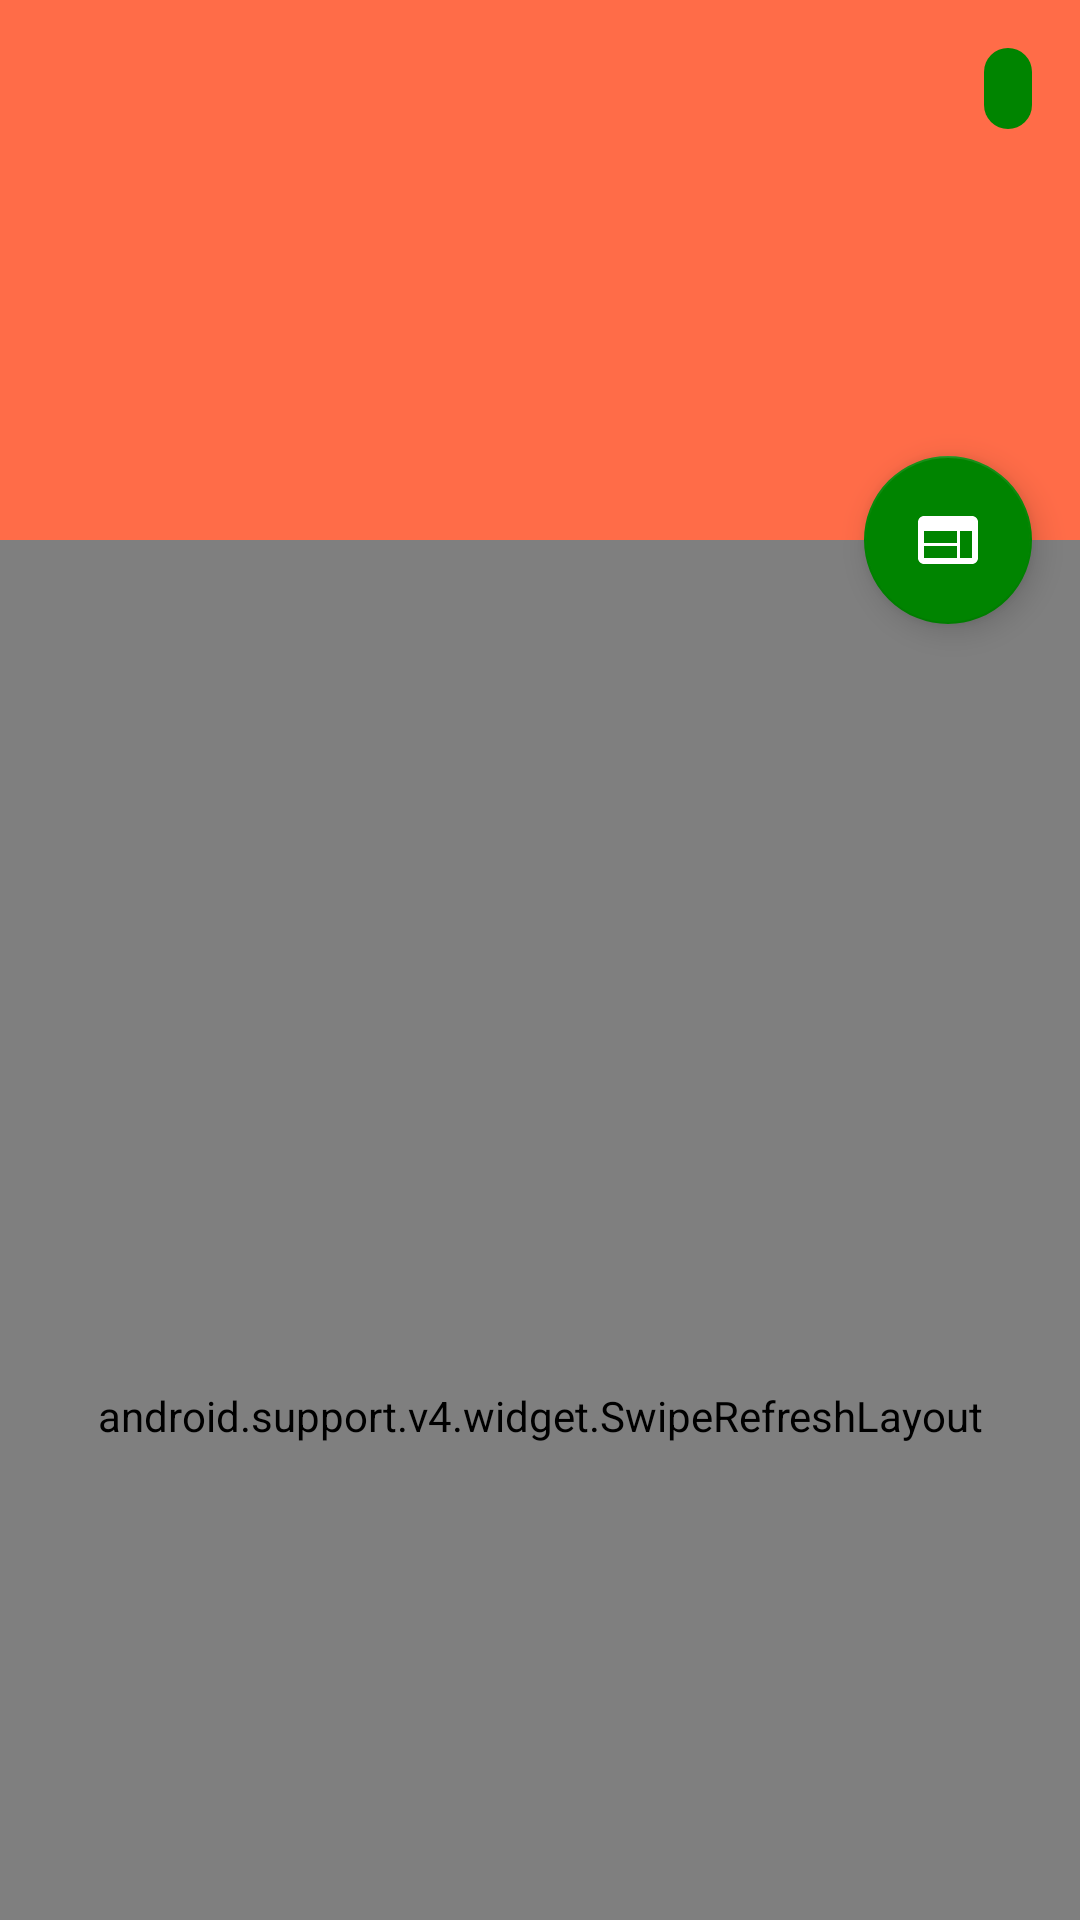

Icon click points for this 1080x1920 phone screenshot, format [x,y]:
web: [948,540]
